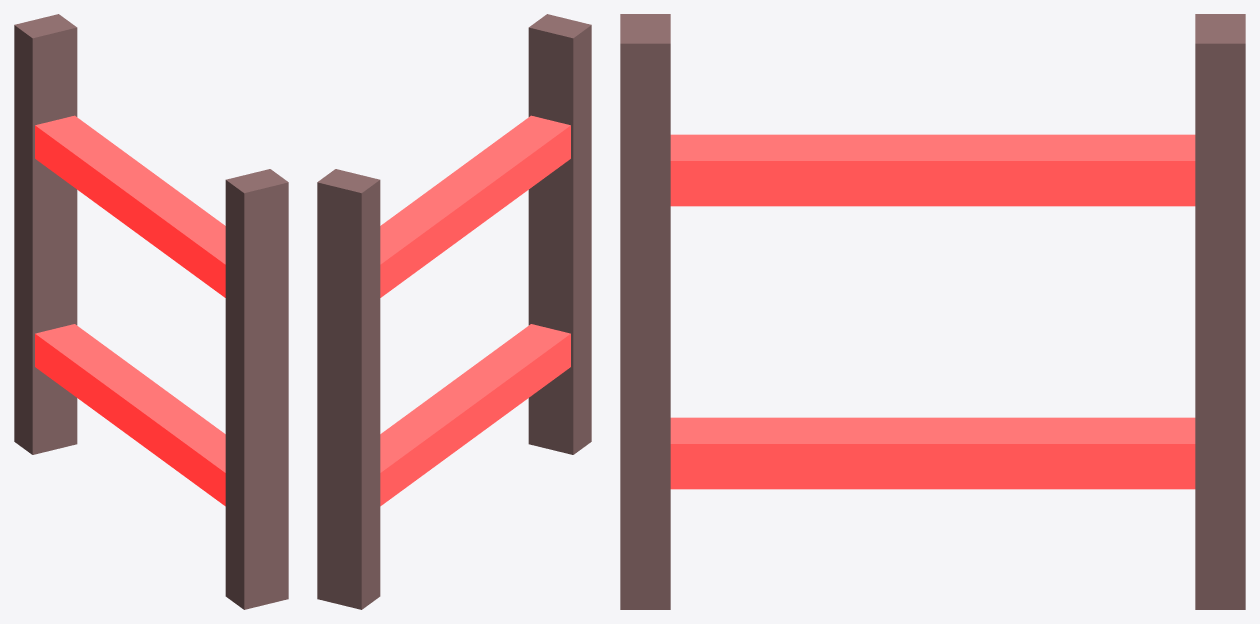
File: CubeBaseFrontLadder.fbx
The picture shows the model from 3 angles, left to right: view 1: azimuth 30°, elevation 25°; view 2: azimuth 150°, elevation 25°; view 3: azimuth 270°, elevation 25°; orthographic projection. The views are drawn at different scales.
Parts seen in each view (by area): view 1: pCube2, pCube3, pCube4, pCube5; view 2: pCube3, pCube2, pCube4, pCube5; view 3: pCube4, pCube5, pCube2, pCube3.
Boxes of the visible parts, <box> form: pCube2: <box>225,169,288,609</box>; pCube3: <box>14,14,77,454</box>; pCube4: <box>35,115,225,297</box>; pCube5: <box>35,324,225,506</box>; pCube3: <box>317,169,380,609</box>; pCube2: <box>528,14,591,454</box>; pCube4: <box>380,115,570,297</box>; pCube5: <box>380,324,570,506</box>; pCube4: <box>670,134,1195,206</box>; pCube5: <box>670,417,1195,489</box>; pCube2: <box>620,14,670,609</box>; pCube3: <box>1195,14,1245,609</box>.
Bounding box in the file's own units: 0.1121 × 1 × 1.
